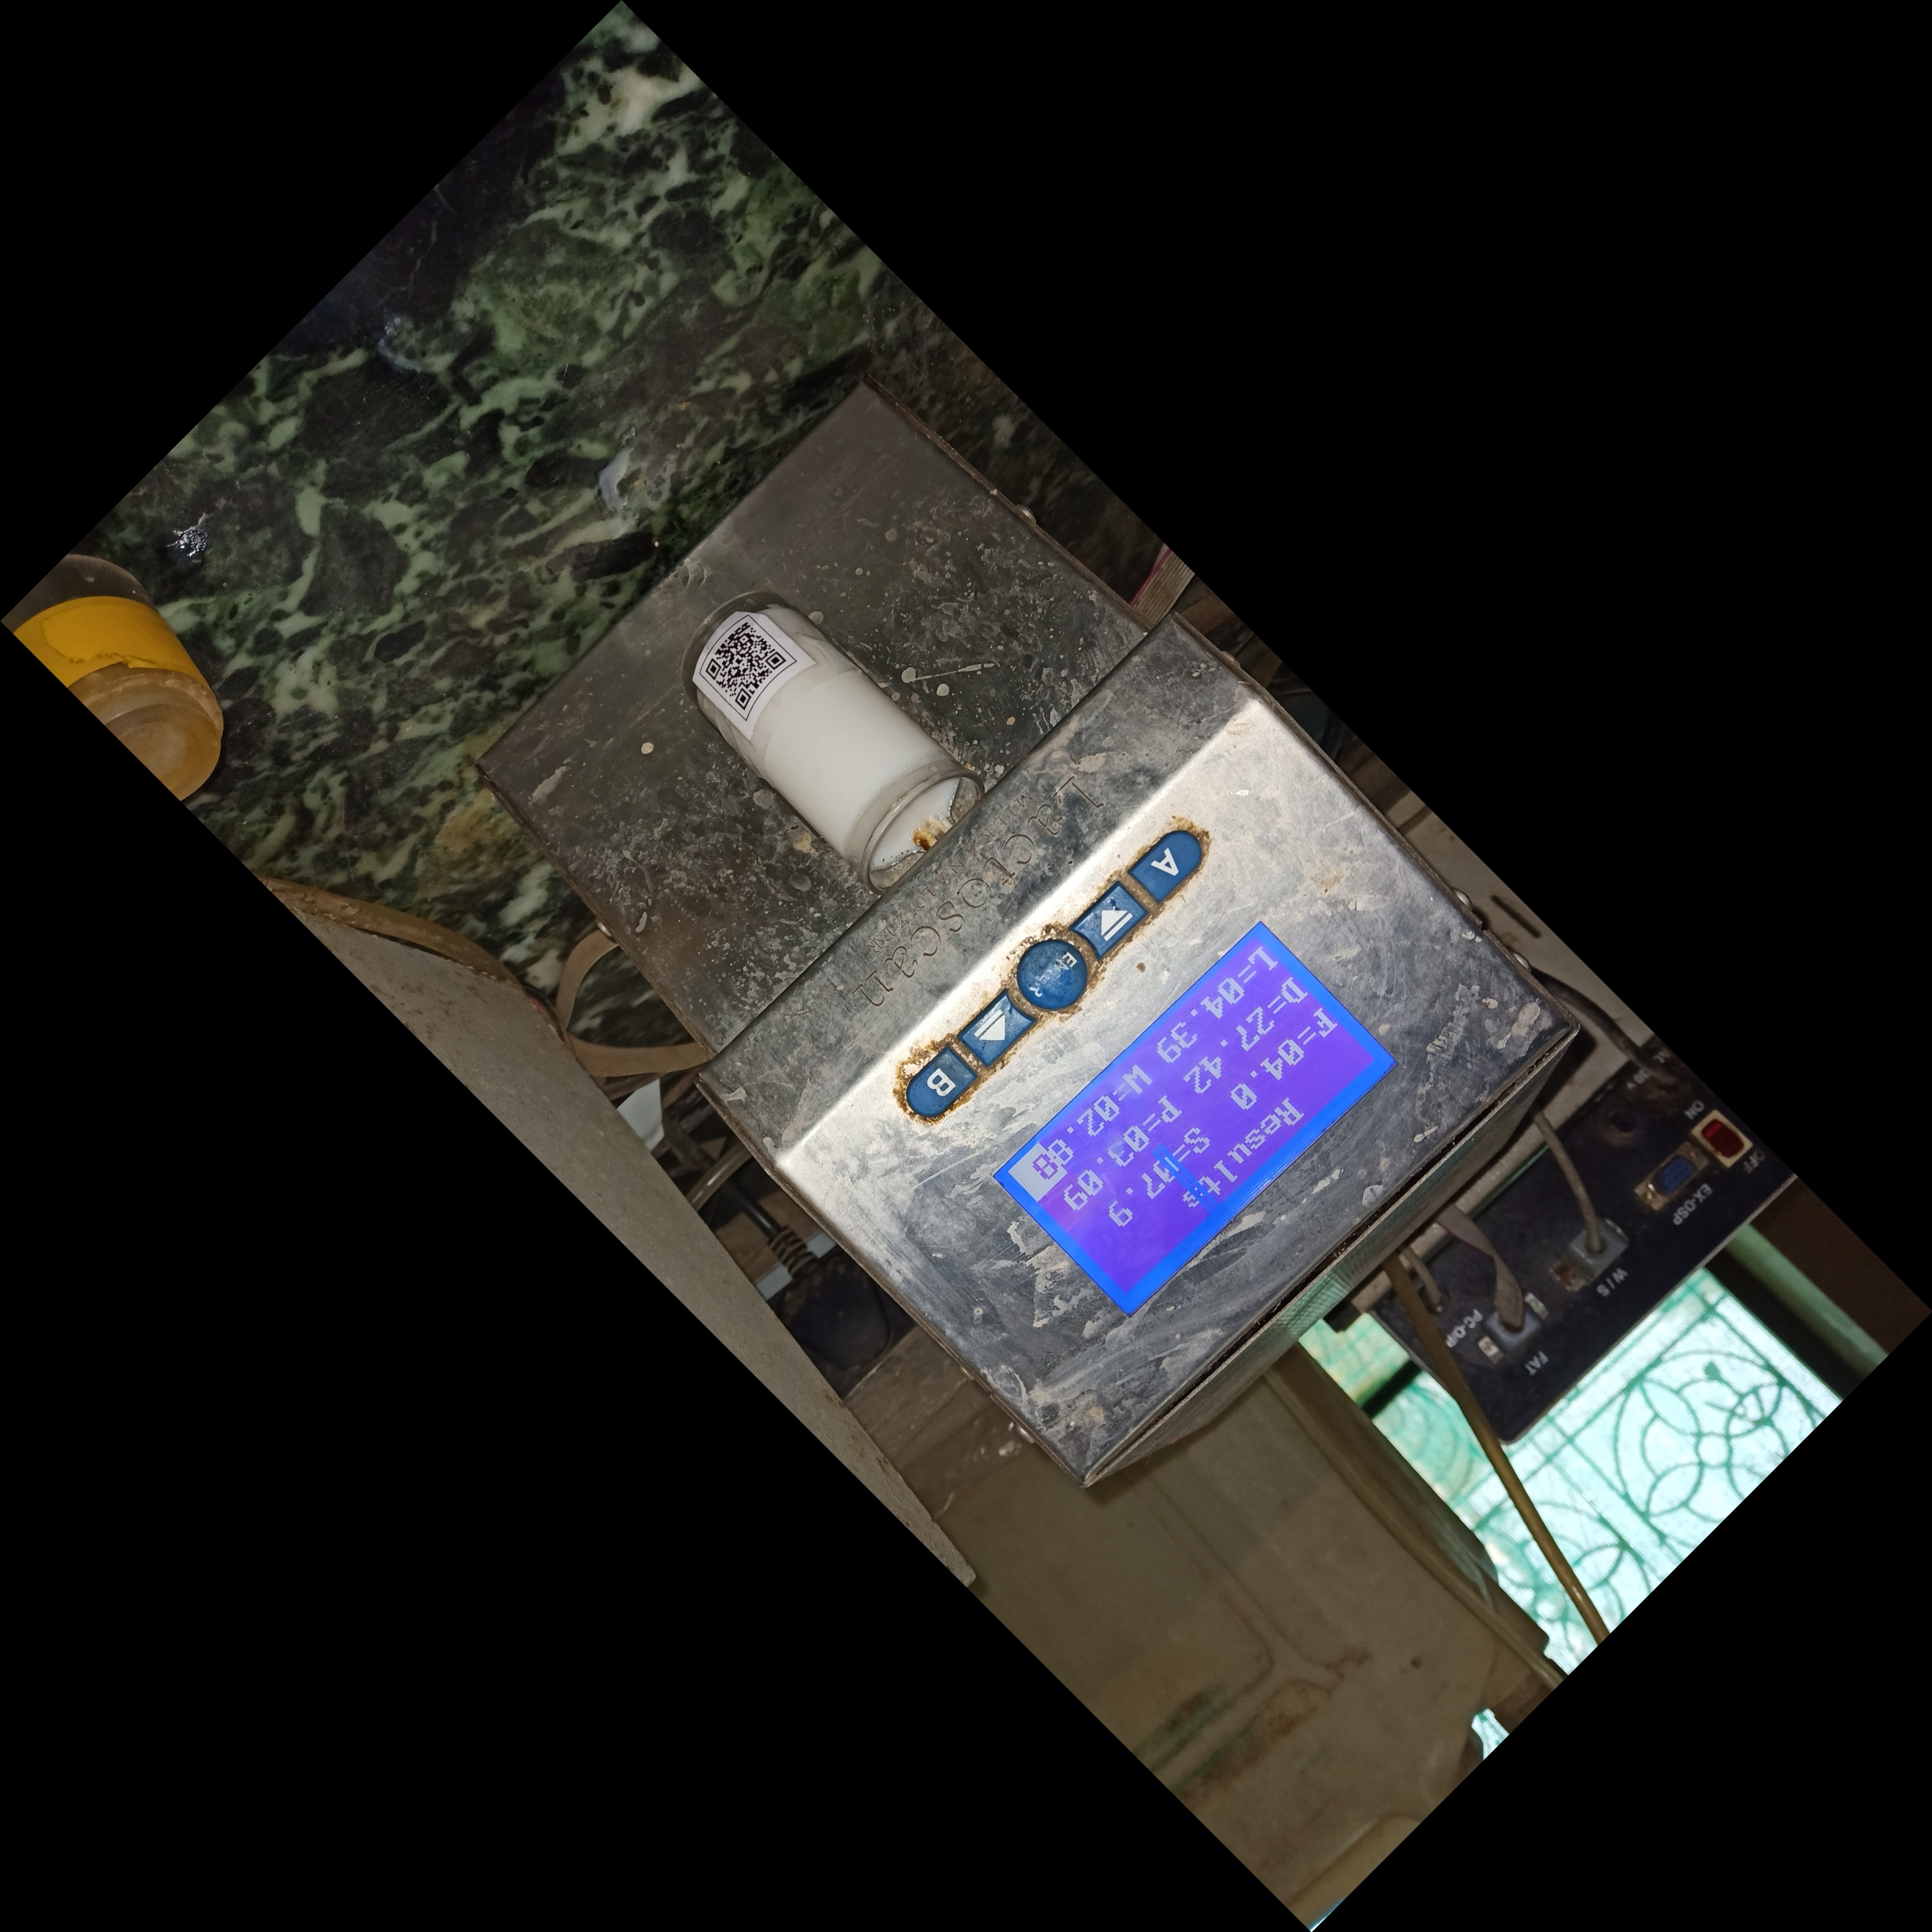lcd: (984, 918, 1405, 1320)
qr: (683, 587, 821, 747)
